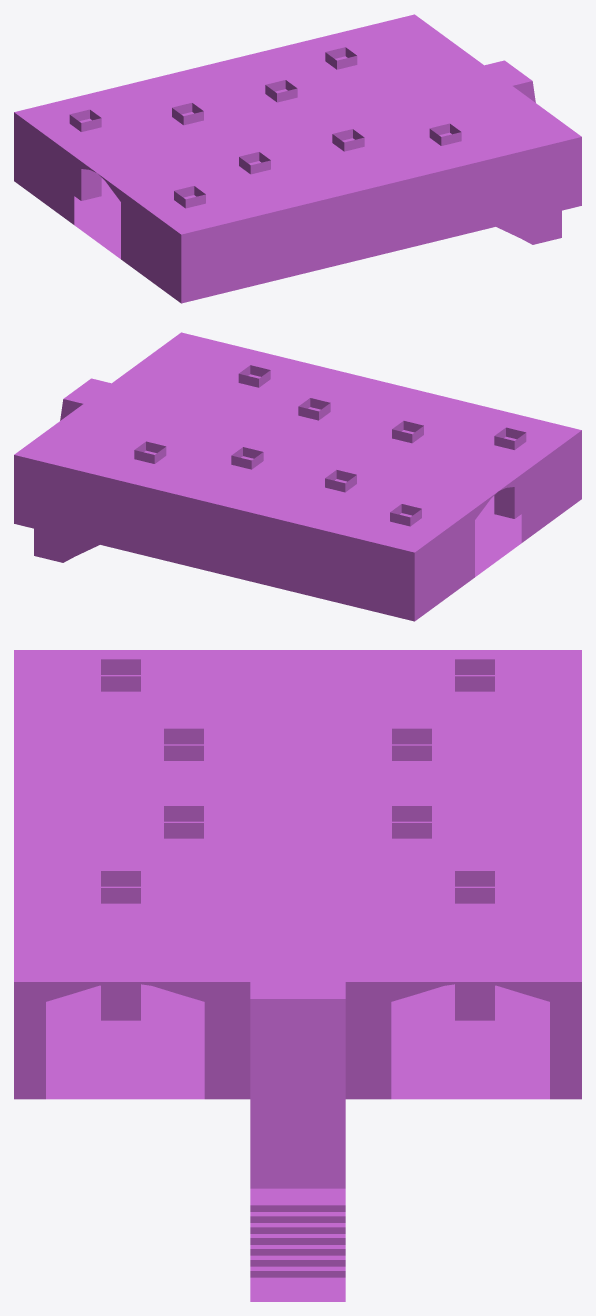
The model's file is PlatformUpper.fbx.
The picture shows the model from 3 angles, top to bottom: view 1: azimuth 30°, elevation 25°; view 2: azimuth 150°, elevation 25°; view 3: azimuth 270°, elevation 25°; orthographic projection. The views are drawn at different scales.
Parts seen in each view (by area): view 1: PLatformUpper; view 2: PLatformUpper; view 3: PLatformUpper.
Part boxes in pixels (x1=…): PLatformUpper: x1=14, y1=14, x2=581, y2=303; PLatformUpper: x1=14, y1=332, x2=581, y2=621; PLatformUpper: x1=14, y1=650, x2=581, y2=1301.
Size of the model in its own units: 22.23 by 8.17 by 14.29.
